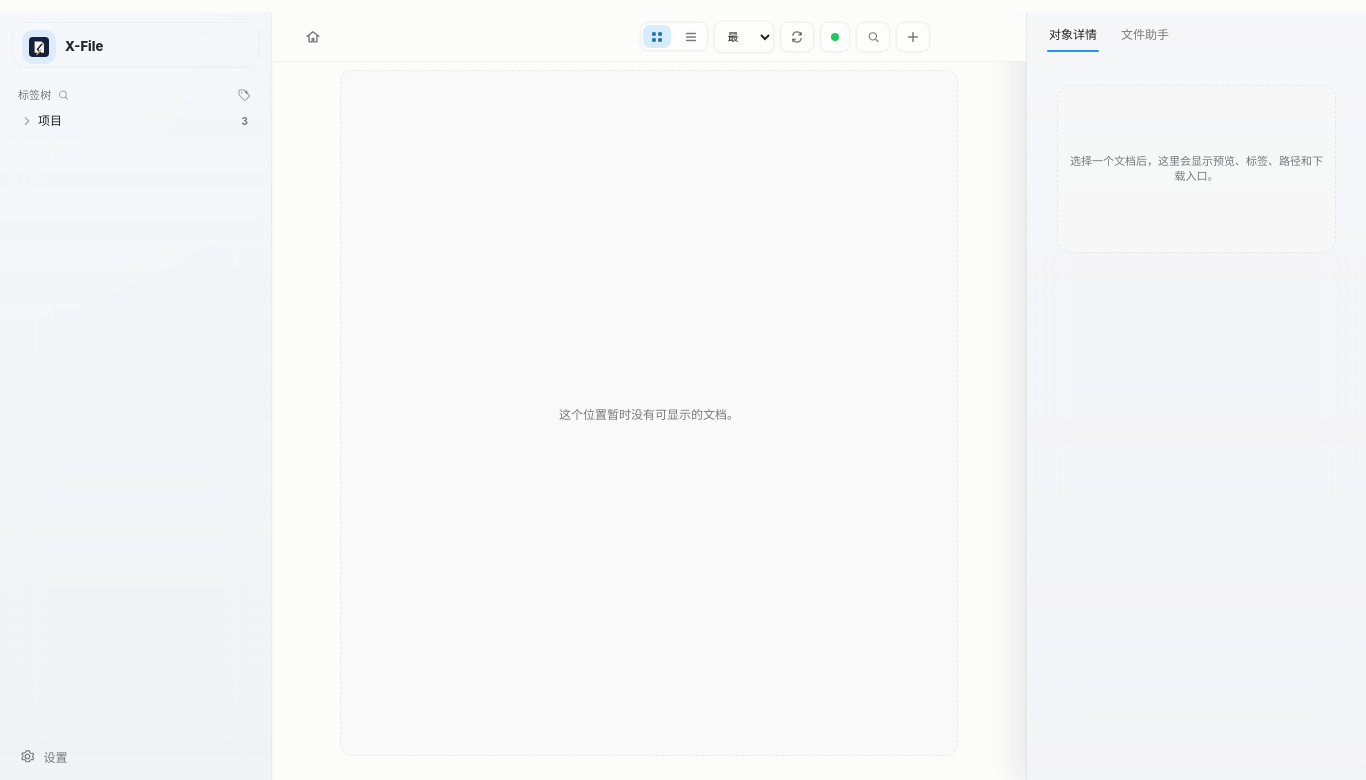
Test: 第 8 批：标签筛选树、多选过滤、徽标计数、排序、展开记忆与拼音搜索 › 标签树路径会在面包屑里显示每一级标签名称
This screenshot has width=1366, height=780.
Step 1. Click the button named "展开标签" → (27, 121), box [18,109,36,133]
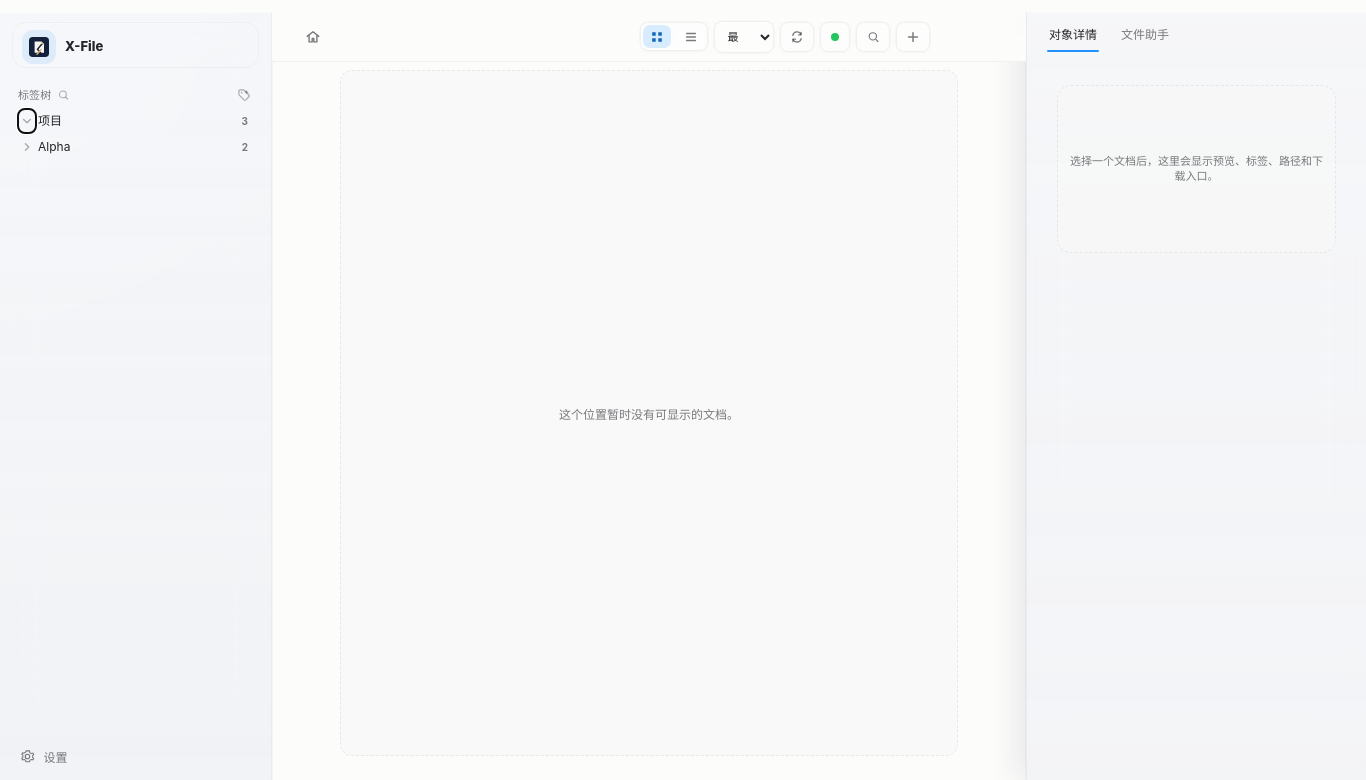
Step 2. Click the button named "展开标签" → (27, 147), box [18,135,36,159]
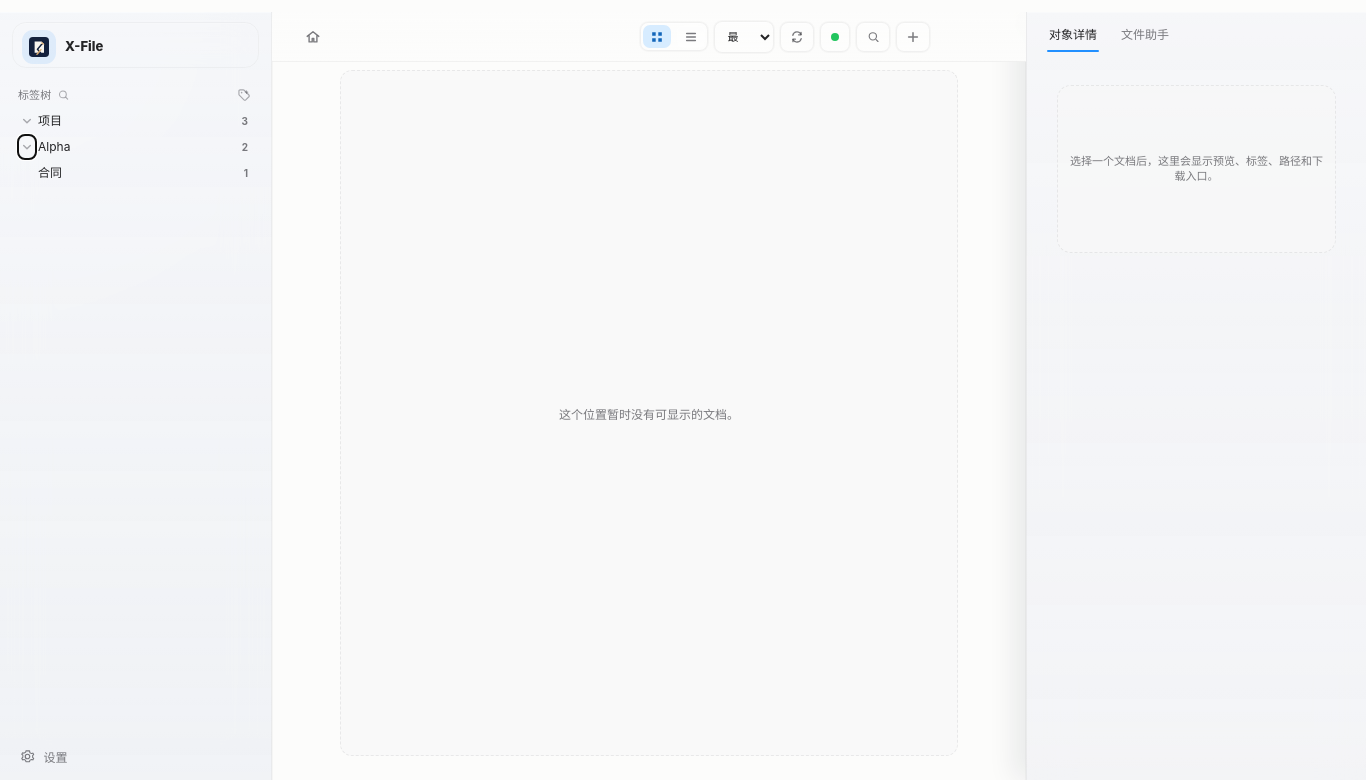
Step 3. Click the button "合同 1" → (150, 173), box [38,160,263,186]
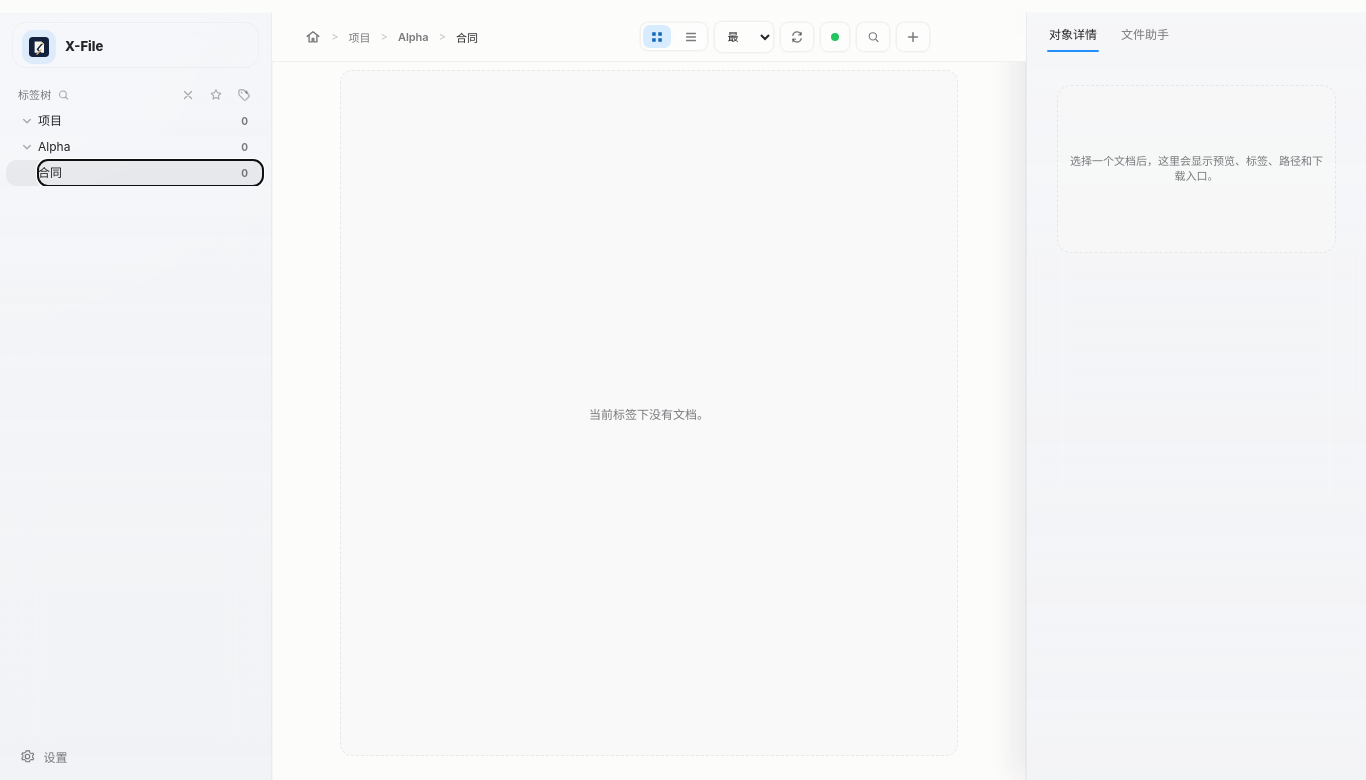
Expected: the button "项目" is shown, [343,24,377,48]
Expected: the button "Alpha" is shown, [392,24,435,48]
Expected: the button "合同" is shown, [450,24,484,48]
